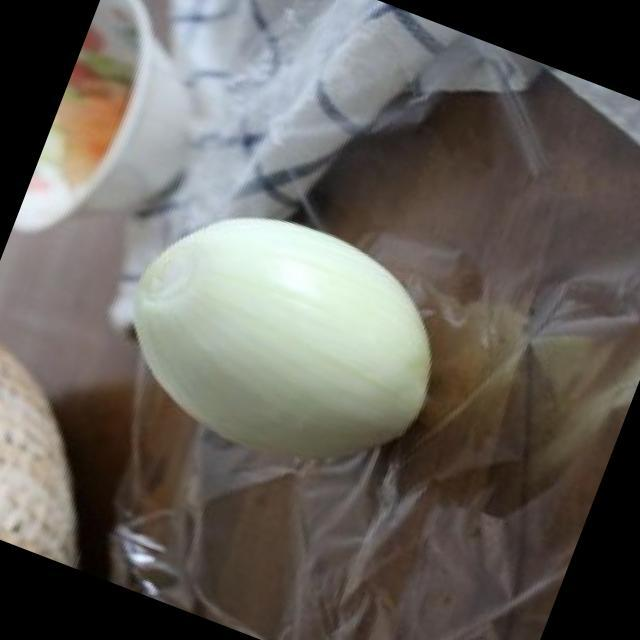Onion: (136, 219, 432, 461)
